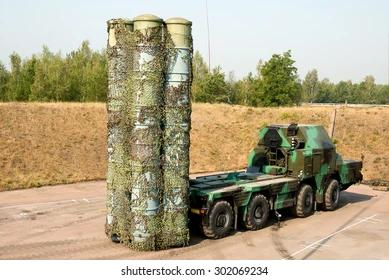MIL_SAM_TEL: (101, 11, 368, 252)
